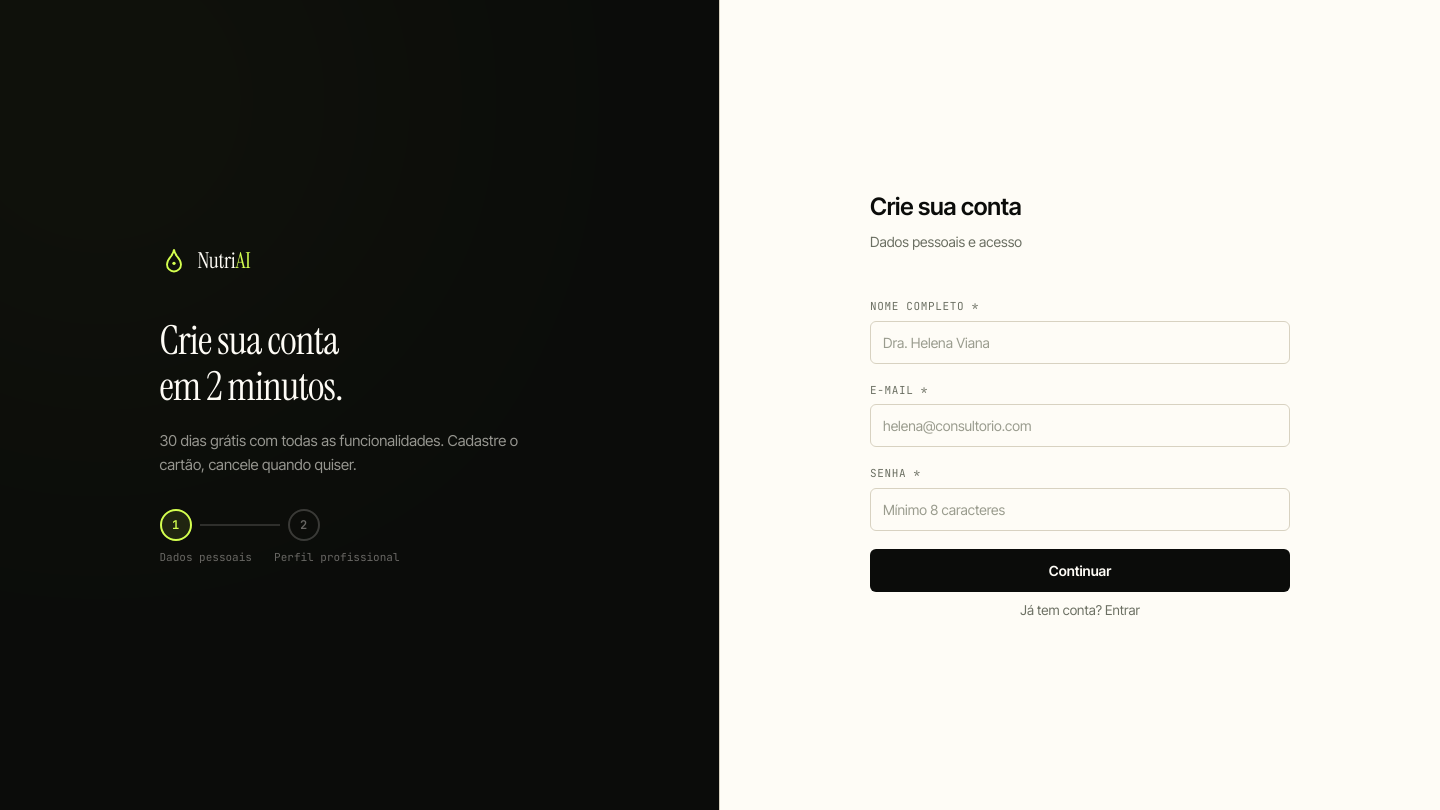
Test case: SignupView › Step navigation › goes back to step 1 when back button clicked on step 2
In the field with test id "signup-name": (1080, 342) [870,321,1290,364], type "Dra. Helena"
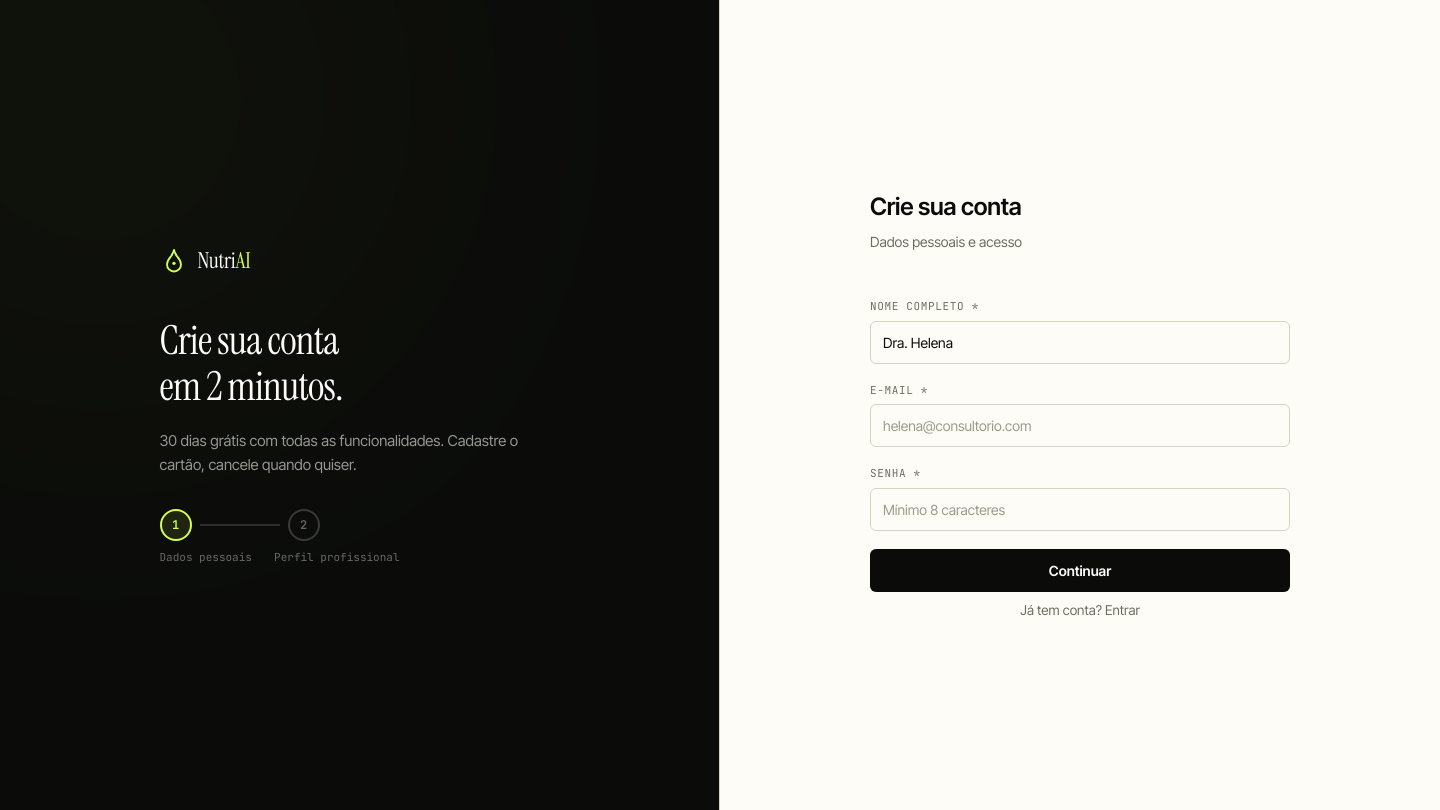
In the field with test id "signup-email": (1080, 426) [870,404,1290,447], type "helena@test.com"
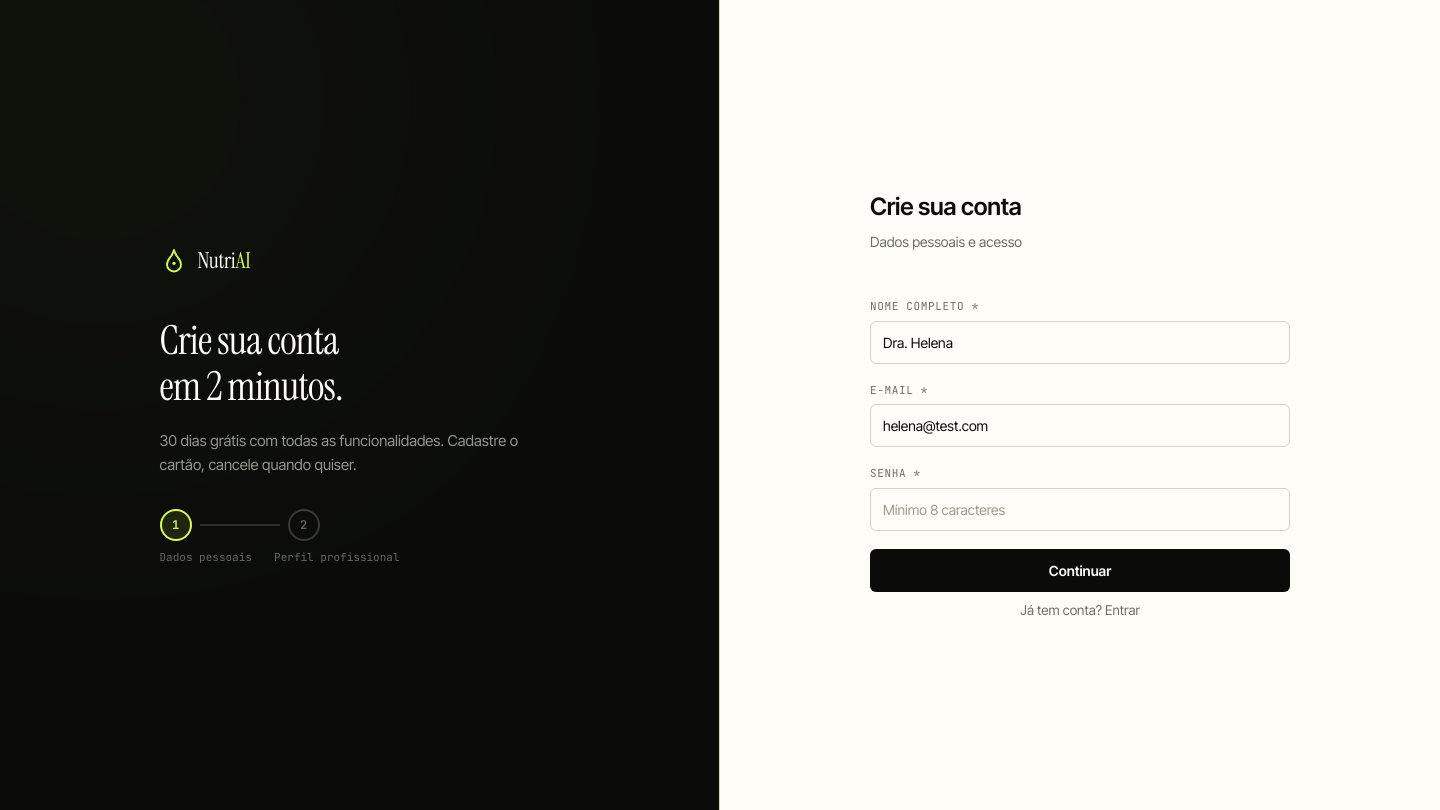
In the password field with test id "signup-password": (1080, 509) [870,488,1290,531], type "Senha123!"
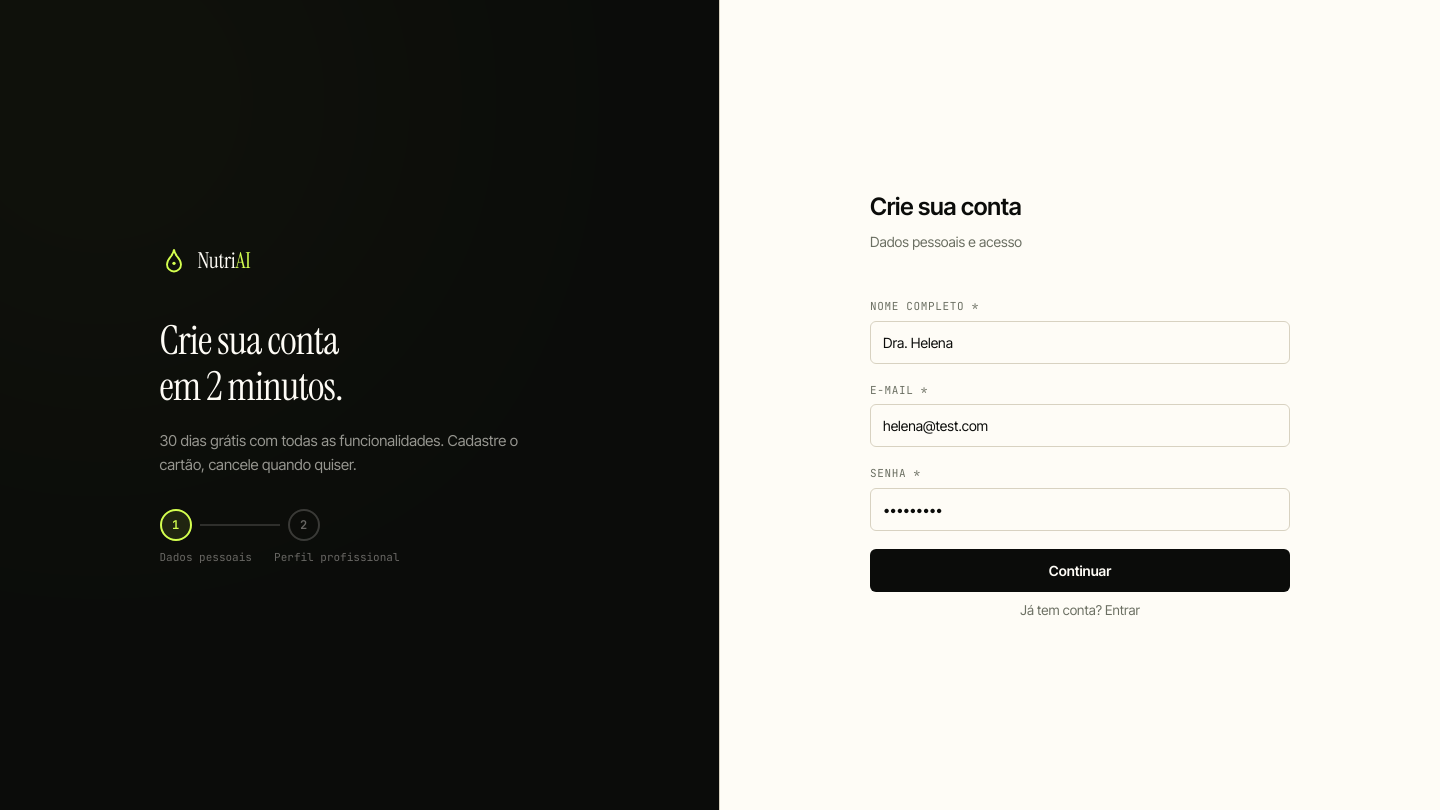
Submit the form named "continuar", box [870,189,1290,592]
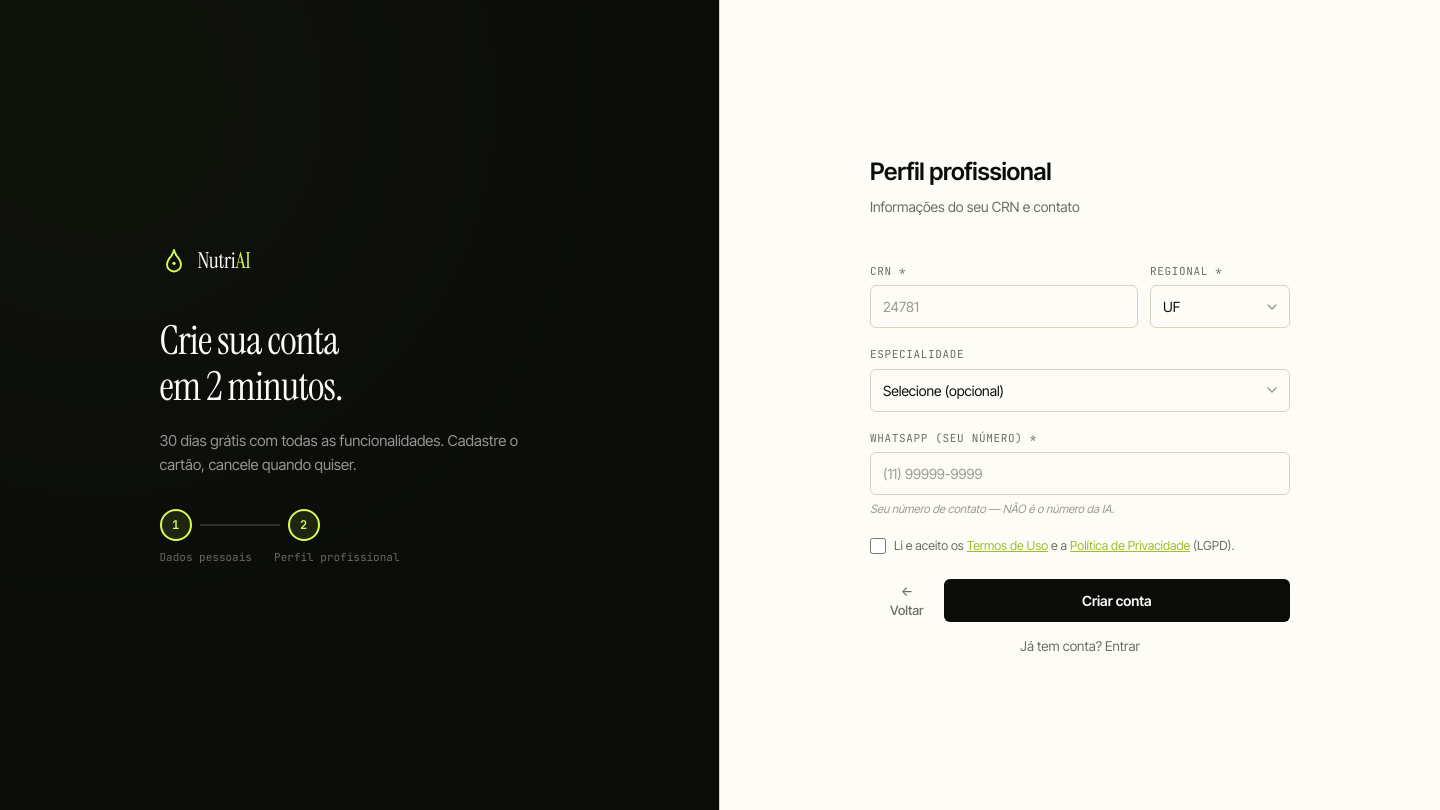
Click the button "← Voltar": (907, 601) [870,573,944,628]
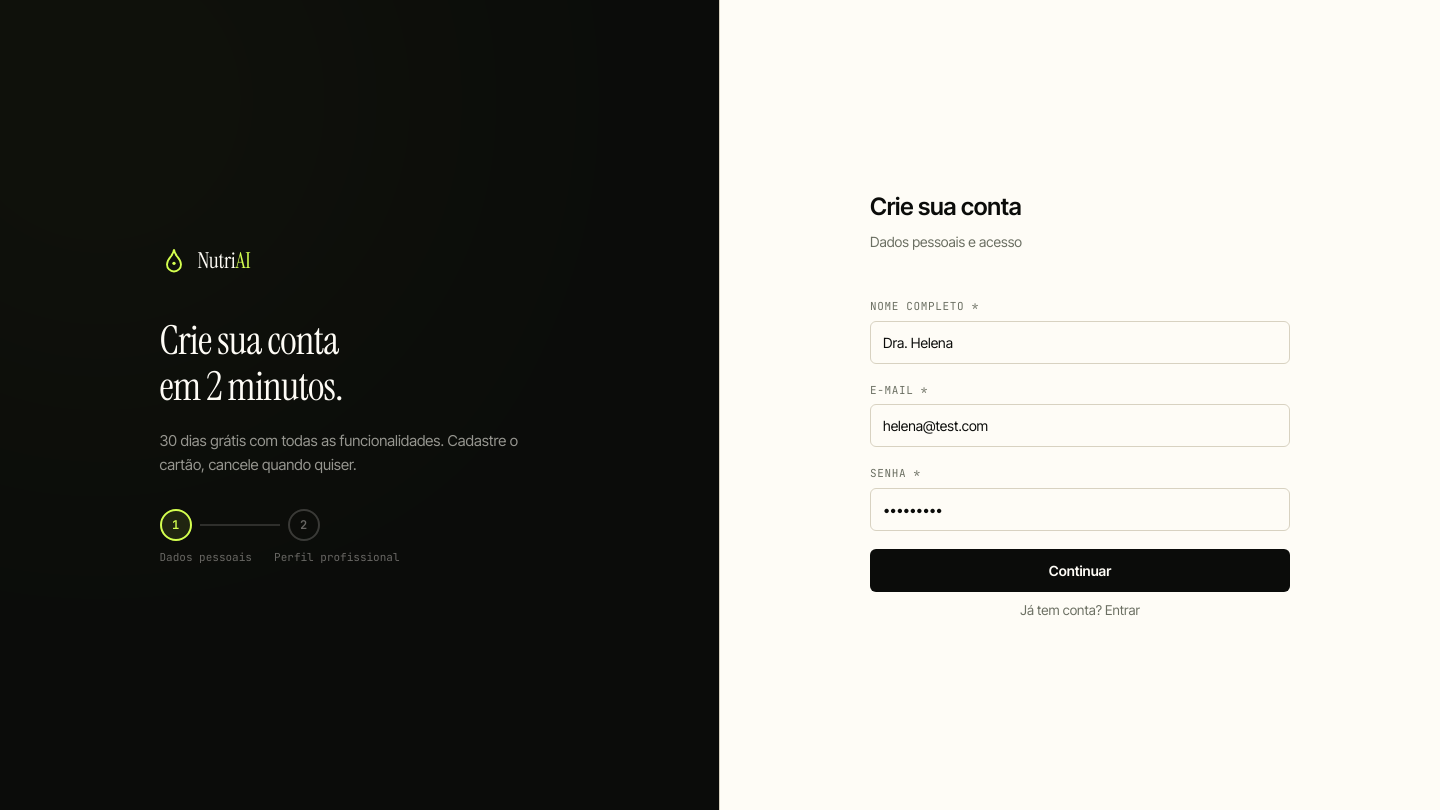
Expected: the field with test id "signup-name" is shown, [870,321,1290,364]
